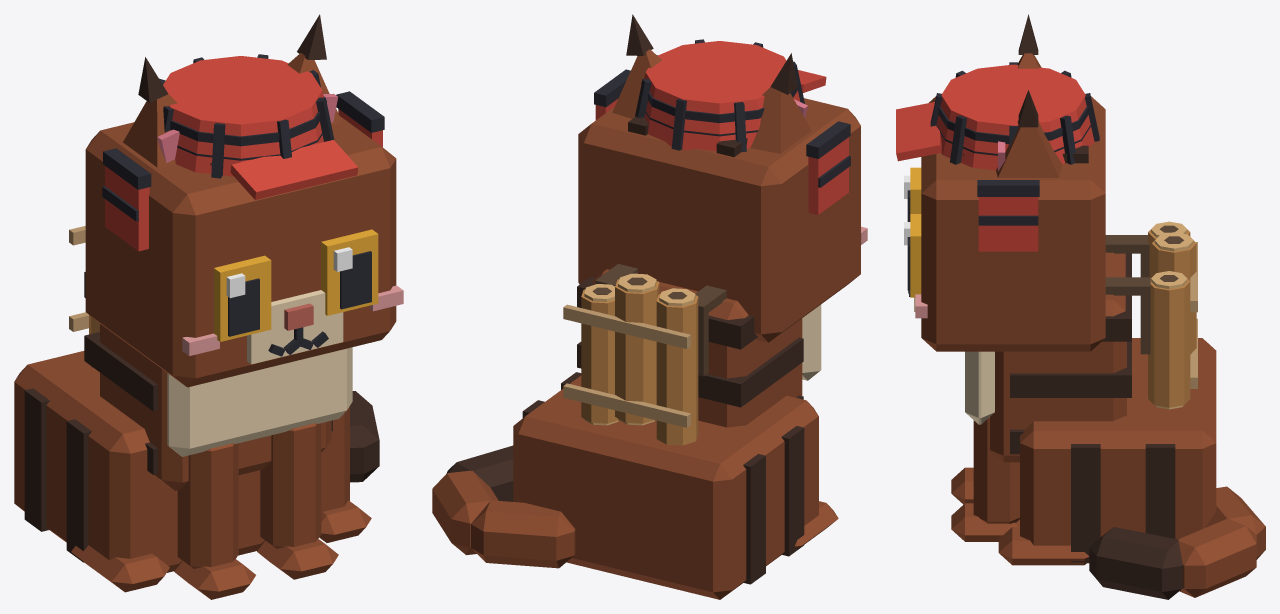
The model's file is CatCafe_Cat_ForestCat_Sit.fbx.
The picture shows the model from 3 angles, left to right: view 1: azimuth 30°, elevation 25°; view 2: azimuth 150°, elevation 25°; view 3: azimuth 270°, elevation 25°; orthographic projection. The views are drawn at different scales.
Visible parts, largest first — view 1: CatCafe_Cat_ForestCat_Sit_Body, CatCafe_Cat_ForestCat_Sit_Head, CatCafe_Cat_ForestCat_Sit_Prop, CatCafe_Cat_ForestCat_Sit_LegF1, CatCafe_Cat_ForestCat_Sit_LegF2, CatCafe_Cat_ForestCat_Sit_Eye2, CatCafe_Cat_ForestCat_Sit_Eye1, CatCafe_Cat_ForestCat_Sit_EarR, CatCafe_Cat_ForestCat_Sit_Tail, CatCafe_Cat_ForestCat_Sit_EarL, CatCafe_Cat_ForestCat_Sit_Prop2; view 2: CatCafe_Cat_ForestCat_Sit_Body, CatCafe_Cat_ForestCat_Sit_Head, CatCafe_Cat_ForestCat_Sit_Prop2, CatCafe_Cat_ForestCat_Sit_Prop, CatCafe_Cat_ForestCat_Sit_Tail, CatCafe_Cat_ForestCat_Sit_EarR, CatCafe_Cat_ForestCat_Sit_EarL; view 3: CatCafe_Cat_ForestCat_Sit_Body, CatCafe_Cat_ForestCat_Sit_Head, CatCafe_Cat_ForestCat_Sit_Prop, CatCafe_Cat_ForestCat_Sit_Tail, CatCafe_Cat_ForestCat_Sit_Prop2, CatCafe_Cat_ForestCat_Sit_LegF1, CatCafe_Cat_ForestCat_Sit_EarL, CatCafe_Cat_ForestCat_Sit_Eye1, CatCafe_Cat_ForestCat_Sit_Eye2, CatCafe_Cat_ForestCat_Sit_EarR, CatCafe_Cat_ForestCat_Sit_LegF2.
Part boxes in pixels (box(x1,y1,x2,y2)): CatCafe_Cat_ForestCat_Sit_Body: box(14, 272, 371, 592); CatCafe_Cat_ForestCat_Sit_Head: box(85, 116, 403, 387); CatCafe_Cat_ForestCat_Sit_Prop: box(102, 54, 384, 251); CatCafe_Cat_ForestCat_Sit_LegF1: box(257, 423, 338, 579); CatCafe_Cat_ForestCat_Sit_LegF2: box(174, 443, 255, 599); CatCafe_Cat_ForestCat_Sit_Eye2: box(214, 255, 271, 341); CatCafe_Cat_ForestCat_Sit_Eye1: box(321, 229, 378, 315); CatCafe_Cat_ForestCat_Sit_EarR: box(123, 57, 179, 167); CatCafe_Cat_ForestCat_Sit_Tail: box(350, 391, 379, 482); CatCafe_Cat_ForestCat_Sit_EarL: box(287, 14, 342, 125); CatCafe_Cat_ForestCat_Sit_Prop2: box(69, 226, 99, 367); CatCafe_Cat_ForestCat_Sit_Body: box(513, 269, 838, 599); CatCafe_Cat_ForestCat_Sit_Head: box(578, 98, 867, 342); CatCafe_Cat_ForestCat_Sit_Prop2: box(563, 264, 726, 445); CatCafe_Cat_ForestCat_Sit_Prop: box(594, 39, 850, 214); CatCafe_Cat_ForestCat_Sit_Tail: box(432, 445, 575, 568); CatCafe_Cat_ForestCat_Sit_EarR: box(750, 53, 811, 153); CatCafe_Cat_ForestCat_Sit_EarL: box(612, 14, 661, 118); CatCafe_Cat_ForestCat_Sit_Body: box(965, 252, 1216, 565); CatCafe_Cat_ForestCat_Sit_Head: box(908, 96, 1105, 351); CatCafe_Cat_ForestCat_Sit_Prop: box(896, 62, 1099, 251); CatCafe_Cat_ForestCat_Sit_Tail: box(1089, 486, 1265, 599); CatCafe_Cat_ForestCat_Sit_Prop2: box(1105, 221, 1197, 409); CatCafe_Cat_ForestCat_Sit_LegF1: box(951, 417, 1019, 541); CatCafe_Cat_ForestCat_Sit_EarL: box(996, 90, 1062, 177); CatCafe_Cat_ForestCat_Sit_Eye1: box(904, 214, 921, 297); CatCafe_Cat_ForestCat_Sit_Eye2: box(904, 167, 921, 221); CatCafe_Cat_ForestCat_Sit_EarR: box(1017, 14, 1041, 68); CatCafe_Cat_ForestCat_Sit_LegF2: box(951, 467, 973, 504).
Bounding box in the file's own units: 1.62 × 2.35 × 1.69.
1 material, 1 textured.
